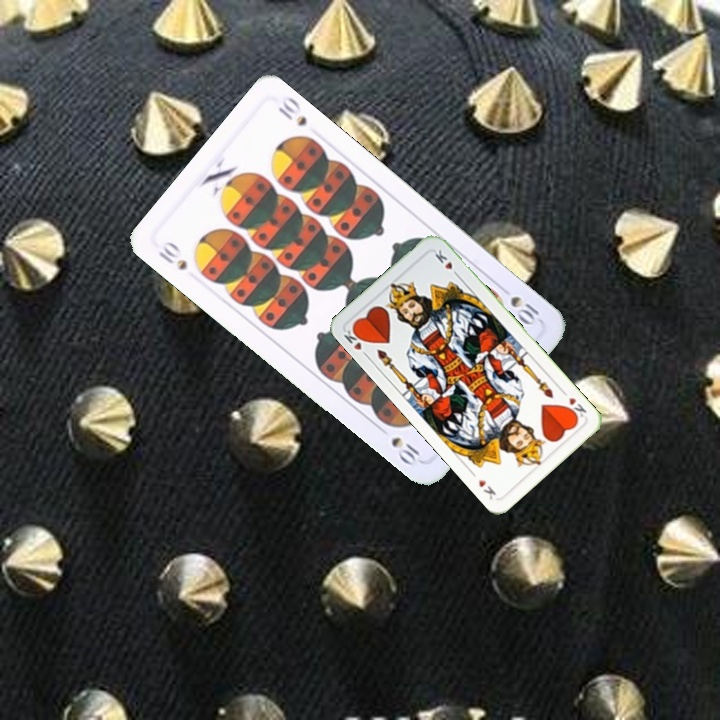HK: (339, 322, 371, 361), (557, 386, 589, 423)
S10: (495, 281, 542, 329), (154, 237, 190, 273)
